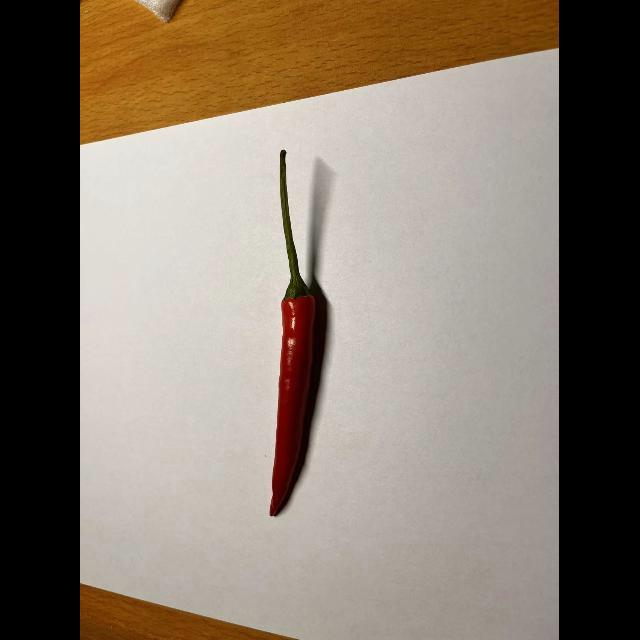chili_pepper: (252, 148, 341, 526)
